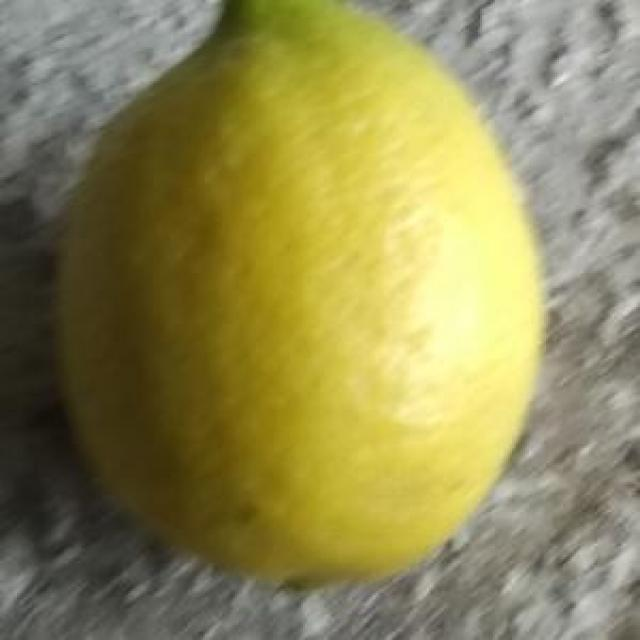lemon: (54, 6, 552, 580)
